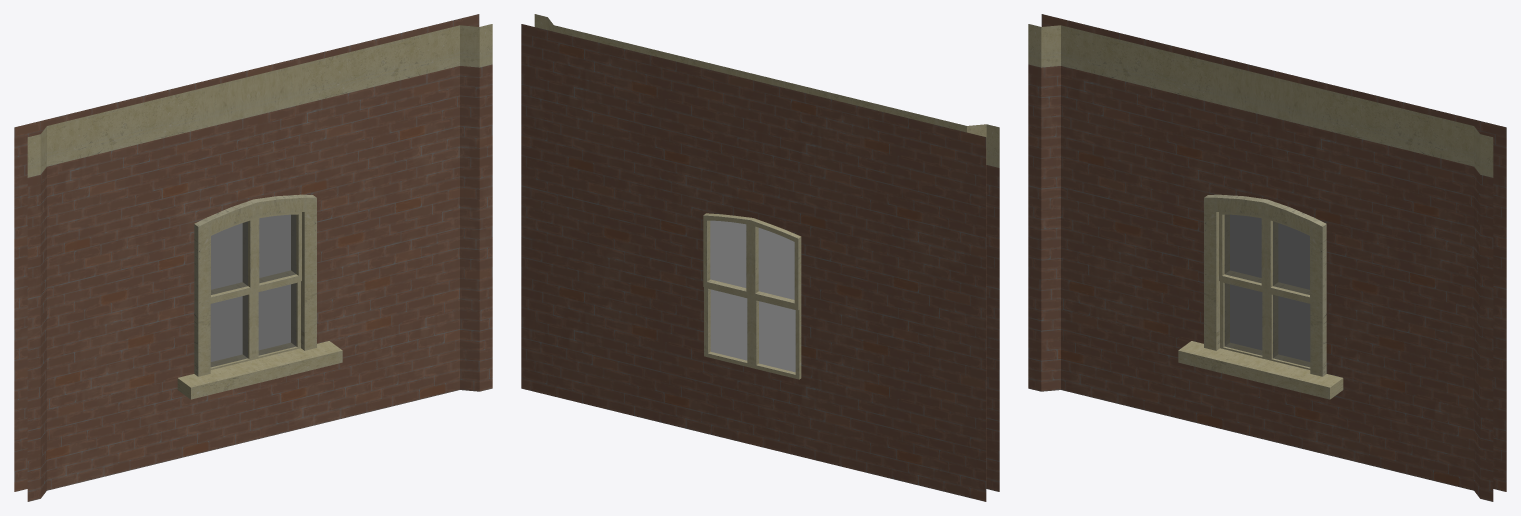
The model's file is Brick_Inset_Window_Curved_Small.gltf.
The picture shows the model from 3 angles, left to right: view 1: azimuth 30°, elevation 25°; view 2: azimuth 150°, elevation 25°; view 3: azimuth 330°, elevation 25°; orthographic projection.
Visible parts, largest first — view 1: Brick_Inset_Window_Curved_Small; view 2: Brick_Inset_Window_Curved_Small; view 3: Brick_Inset_Window_Curved_Small.
Boxes of the visible parts, left/top/right/bottom form: Brick_Inset_Window_Curved_Small: left=14, top=14, right=492, bottom=501; Brick_Inset_Window_Curved_Small: left=521, top=14, right=999, bottom=501; Brick_Inset_Window_Curved_Small: left=1028, top=14, right=1506, bottom=501.
Bounding box in the file's own units: 4 × 3 × 0.3426.
Materials: 5 (3 with a texture image).
